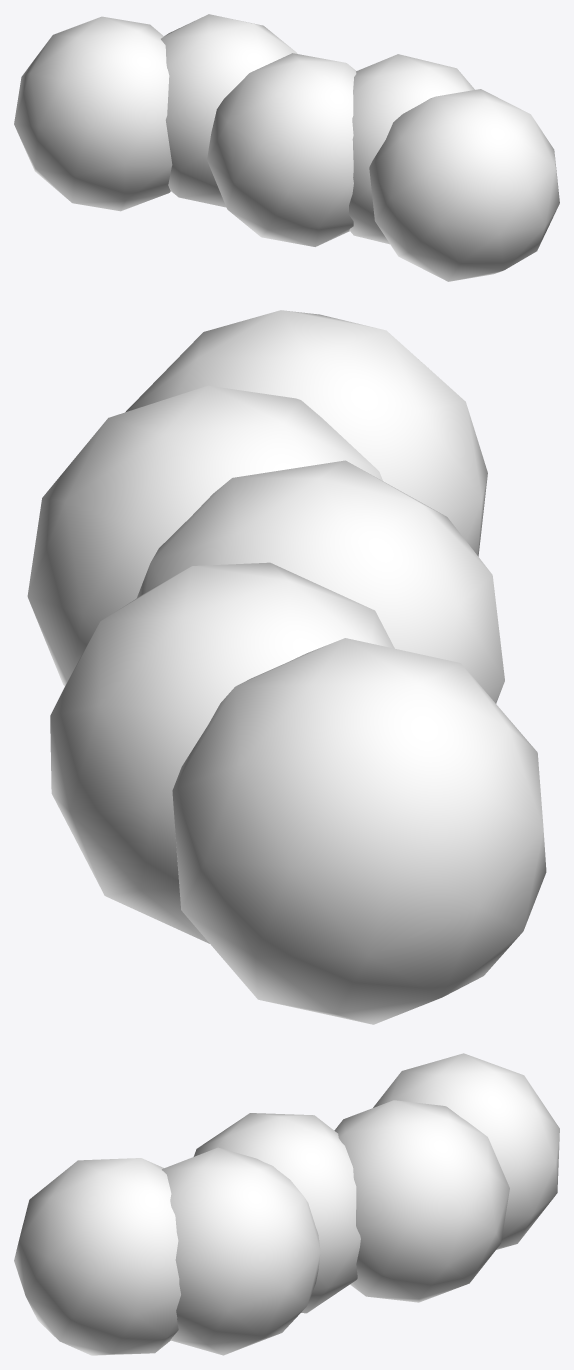
Rendered from Mesh_water_balls.FBX.
The picture shows the model from 3 angles, top to bottom: view 1: azimuth 30°, elevation 25°; view 2: azimuth 150°, elevation 25°; view 3: azimuth 270°, elevation 25°; orthographic projection. The views are drawn at different scales.
Parts seen in each view (by area): view 1: Zone 3 water effect 1, Zone 3 water effect 5, Zone 3 water effect 3, Zone 3 water effect 4, Zone 3 water effect 2; view 2: Zone 3 water effect 5, Zone 3 water effect 4, Zone 3 water effect 2, Zone 3 water effect 3, Zone 3 water effect 1; view 3: Zone 3 water effect 1, Zone 3 water effect 4, Zone 3 water effect 2, Zone 3 water effect 5, Zone 3 water effect 3.
Part boxes in pixels (<box>): Zone 3 water effect 1: <box>369,89,559,281</box>; Zone 3 water effect 5: <box>14,16,172,211</box>; Zone 3 water effect 3: <box>207,53,356,246</box>; Zone 3 water effect 4: <box>161,14,297,207</box>; Zone 3 water effect 2: <box>348,54,474,244</box>; Zone 3 water effect 5: <box>172,638,546,1024</box>; Zone 3 water effect 4: <box>50,562,394,943</box>; Zone 3 water effect 2: <box>27,385,382,685</box>; Zone 3 water effect 3: <box>137,460,504,703</box>; Zone 3 water effect 1: <box>125,310,487,556</box>; Zone 3 water effect 1: <box>14,1158,180,1355</box>; Zone 3 water effect 4: <box>334,1100,509,1302</box>; Zone 3 water effect 2: <box>162,1147,320,1355</box>; Zone 3 water effect 5: <box>373,1053,559,1249</box>; Zone 3 water effect 3: <box>193,1113,360,1313</box>.
Size of the model in its own units: 5.9 by 2.81 by 7.37.
